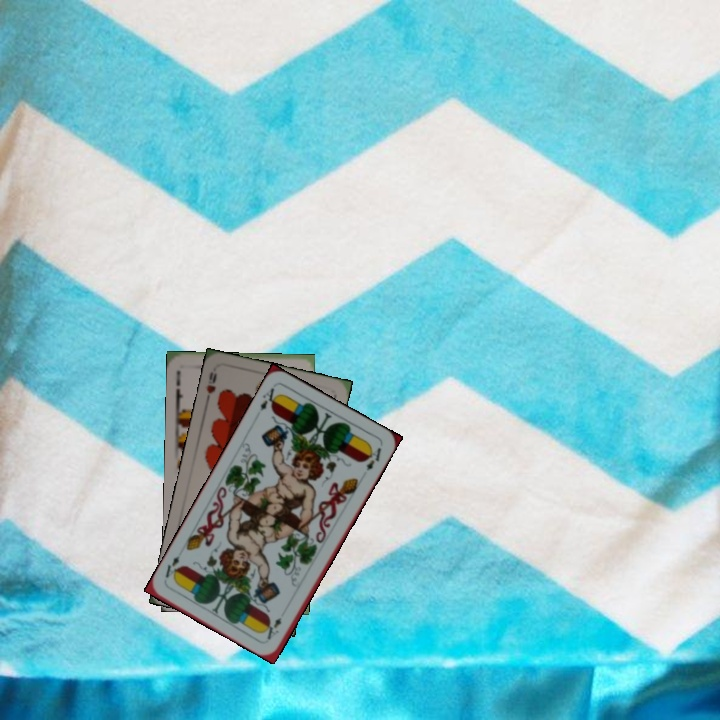E7: (171, 366, 186, 407)
EA: (256, 383, 283, 414), (263, 613, 284, 643)
H9: (201, 368, 220, 406)
